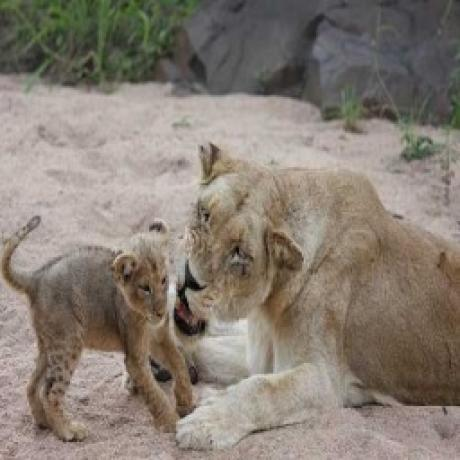Lion: (172, 129, 460, 445), (0, 207, 185, 449)
